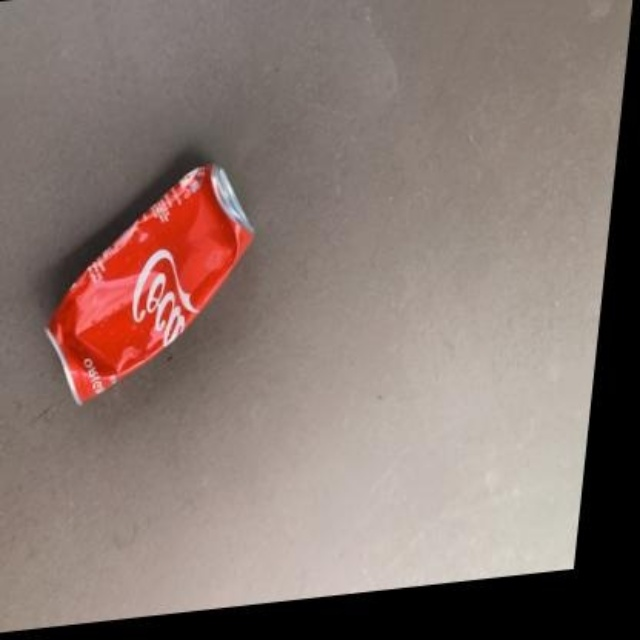trash: (46, 165, 252, 403)
